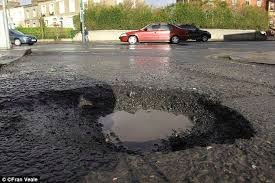pothole: (27, 75, 263, 168), (209, 49, 275, 70)
